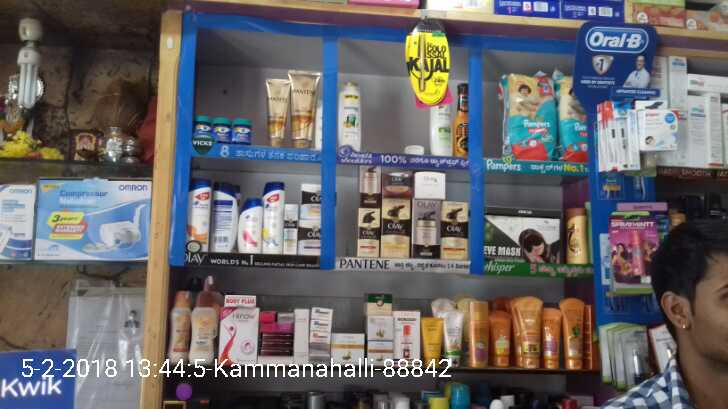beauty: (290, 66, 320, 154), (211, 180, 239, 252), (264, 78, 292, 146), (338, 79, 362, 156), (362, 163, 380, 258), (439, 202, 469, 257), (261, 181, 283, 255), (382, 199, 410, 257), (238, 195, 264, 256), (415, 199, 441, 259), (190, 182, 209, 251), (303, 185, 334, 221), (415, 171, 444, 201), (385, 168, 413, 198), (295, 221, 321, 252), (283, 205, 295, 257)
pharmacy: (504, 69, 554, 163), (557, 73, 585, 165), (229, 114, 251, 145), (192, 112, 211, 141), (212, 118, 232, 144)
